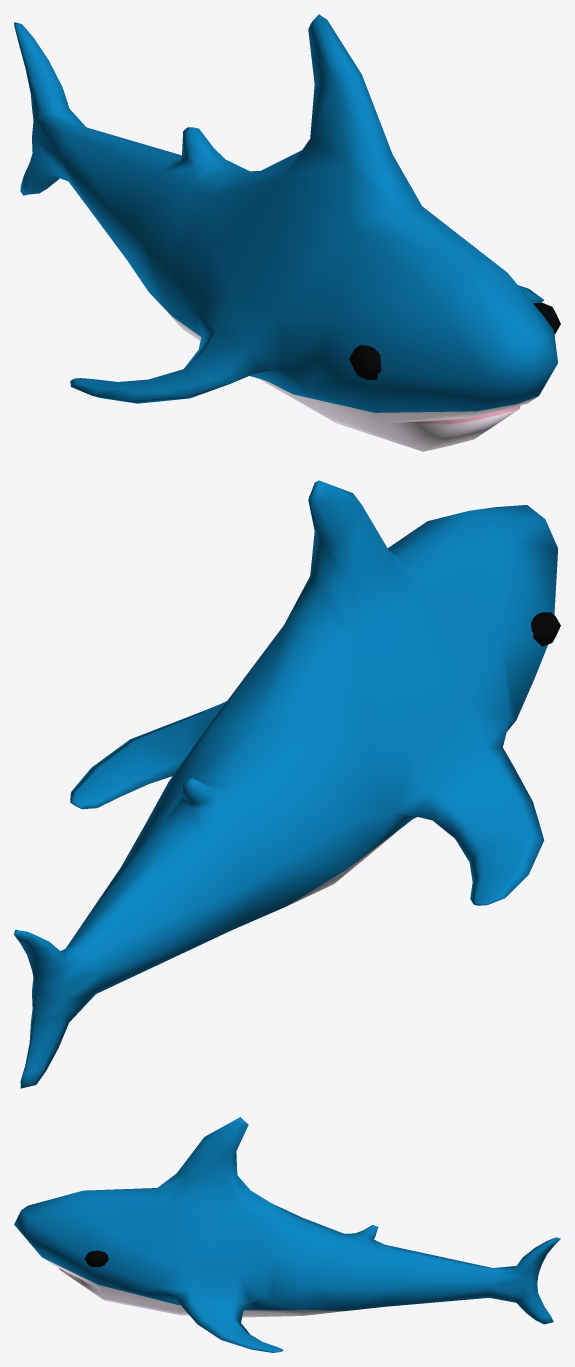
File: blahaj.fbx
The picture shows the model from 3 angles, top to bottom: view 1: azimuth 30°, elevation 25°; view 2: azimuth 150°, elevation 25°; view 3: azimuth 270°, elevation 25°; orthographic projection. The views are drawn at different scales.
Visible parts, largest first — view 1: Blahaj; view 2: Blahaj; view 3: Blahaj.
Part boxes in pixels (x1,y1,x2,y2): Blahaj: [14, 14, 560, 451]; Blahaj: [14, 480, 560, 1088]; Blahaj: [14, 1117, 560, 1352].
Size of the model in its own units: 11.74 by 10.08 by 24.18.
1 material, 1 textured.
